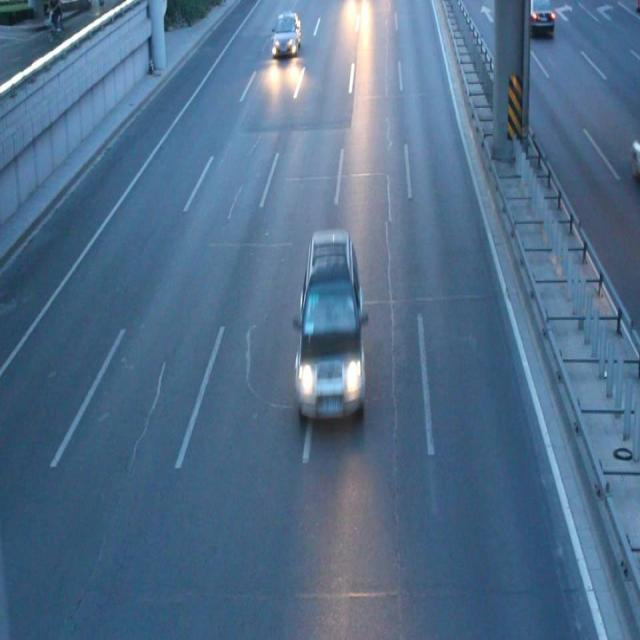car: (271, 13, 300, 59)
truck: (294, 228, 365, 421)
